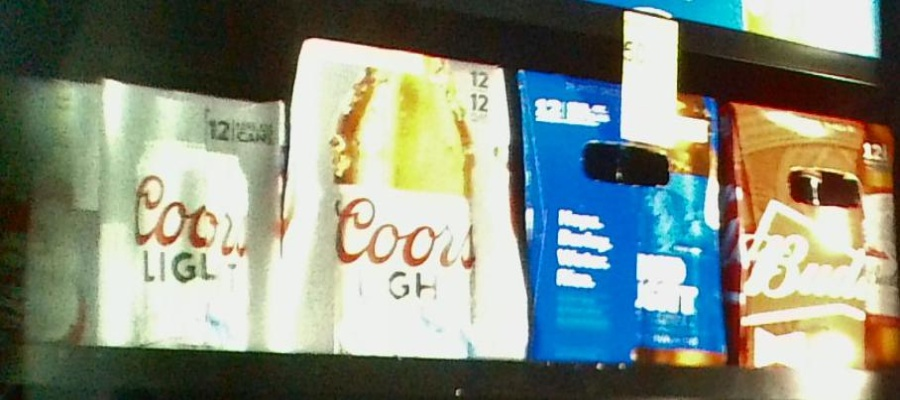bottle: (287, 34, 520, 359), (521, 68, 721, 368), (95, 76, 285, 354), (722, 95, 900, 370), (1, 78, 98, 346)
